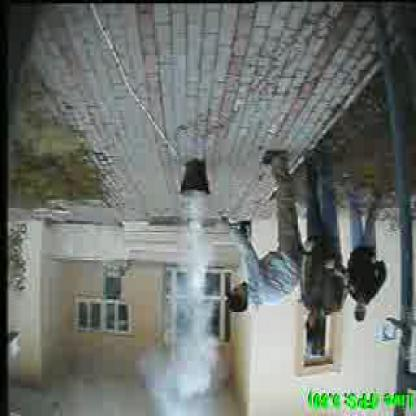Smoke: (138, 198, 219, 412)
